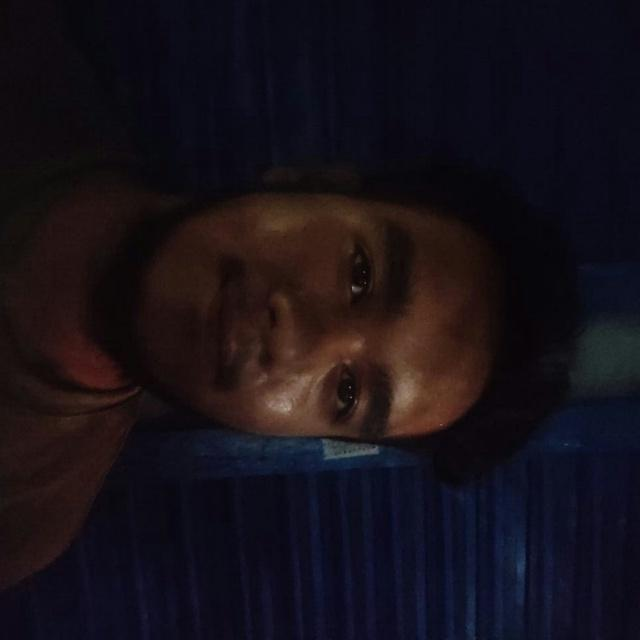Natural: (95, 159, 596, 532)
